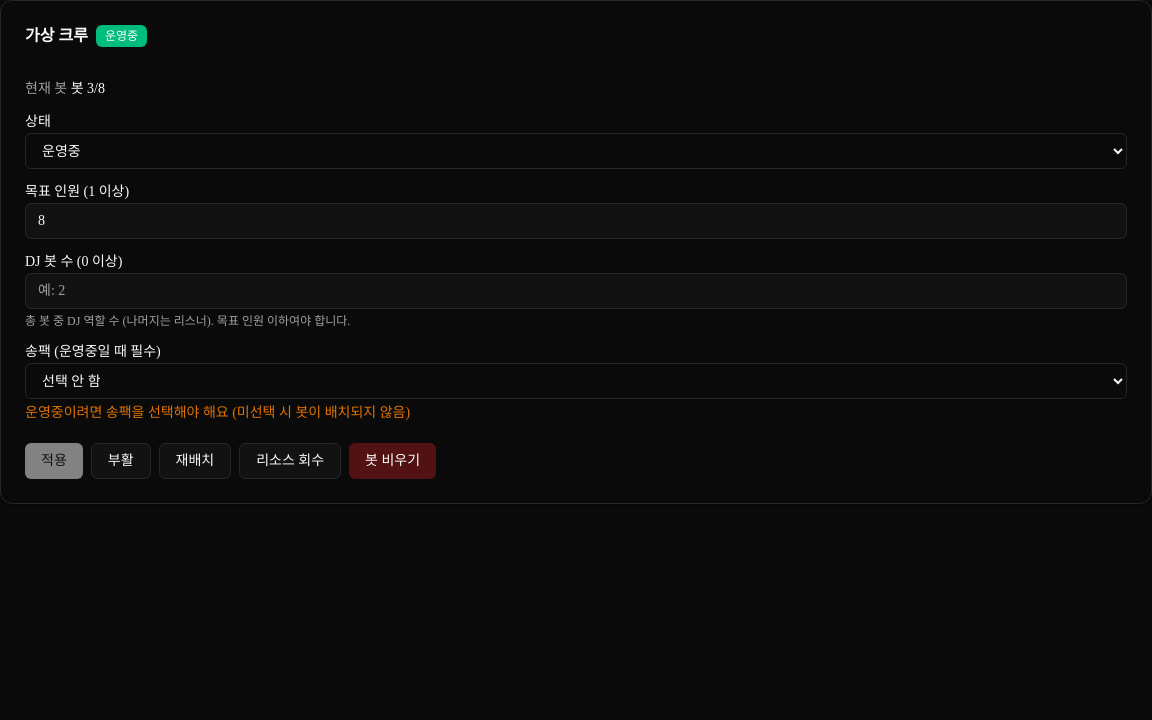
Scenario: VirtualCrewConfigCard › 재배치 → confirm 후 POST replace, 다이얼로그 닫힘
Expected: the text "봇 3/8" is shown, x1=71 y1=81 x2=105 y2=96
// 카드의 트리거 버튼
Click the button "재배치" at [195, 461], box x1=158 y1=443 x2=231 y2=479
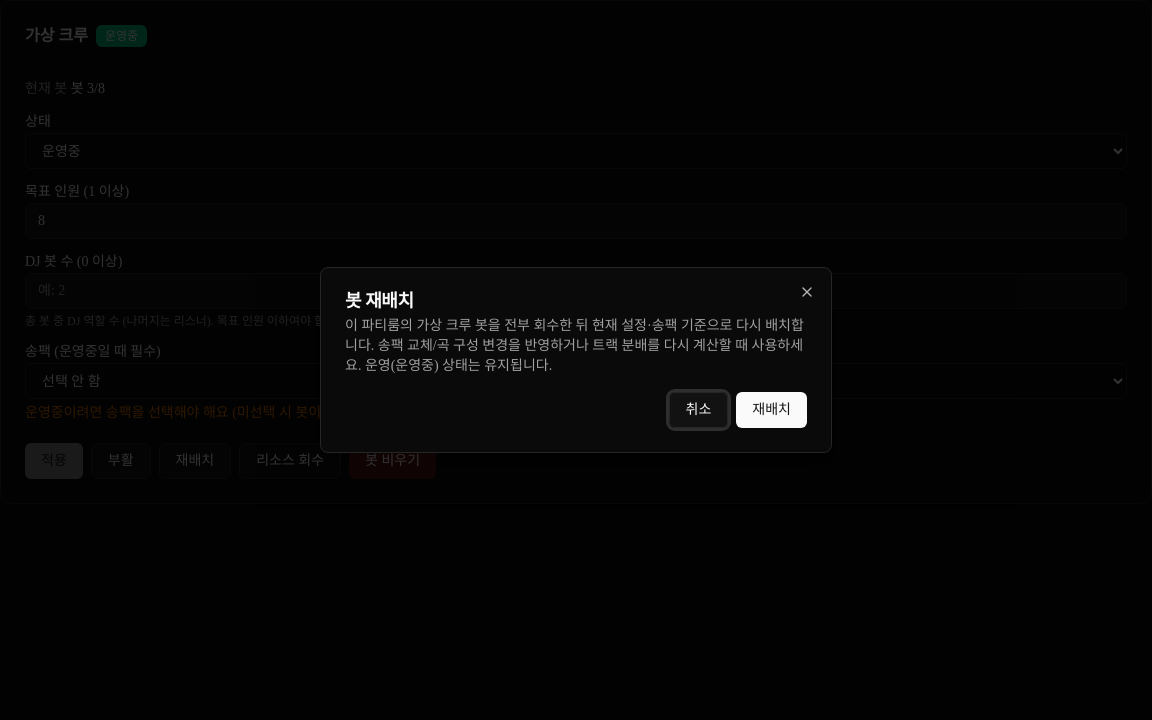
Now the heading "봇 재배치" is shown, box x1=345 y1=291 x2=414 y2=311
Click the button "재배치" at [772, 410], box x1=736 y1=392 x2=807 y2=428
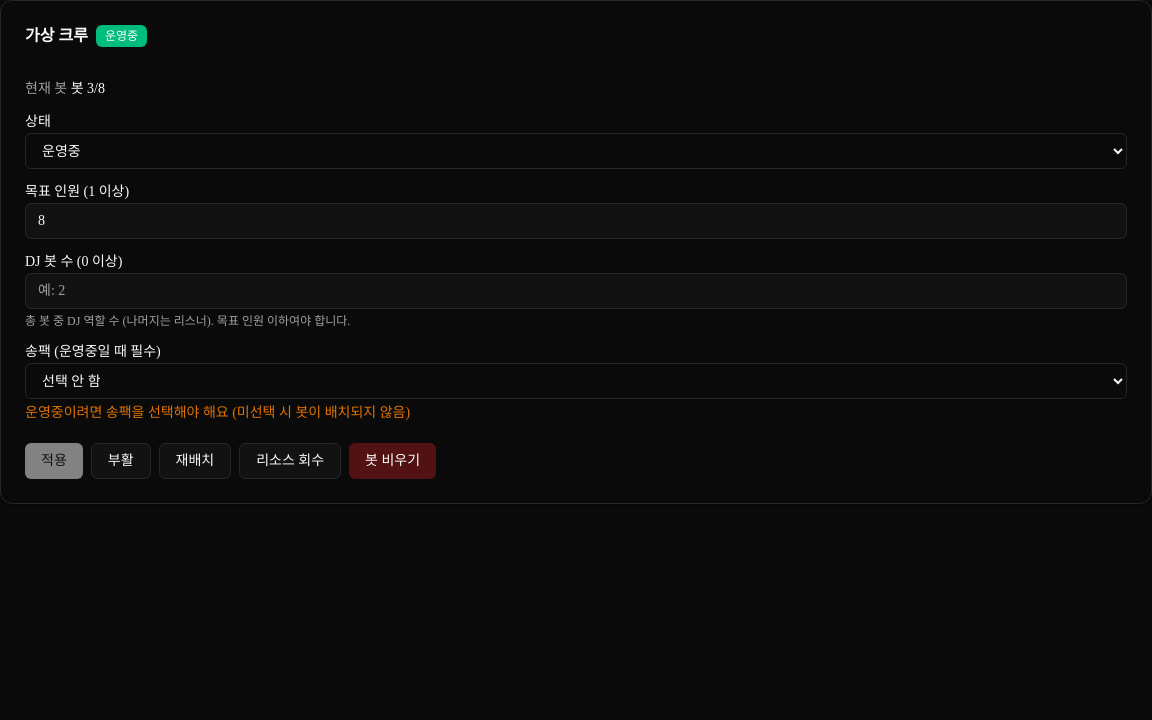
Now the dialog is gone
